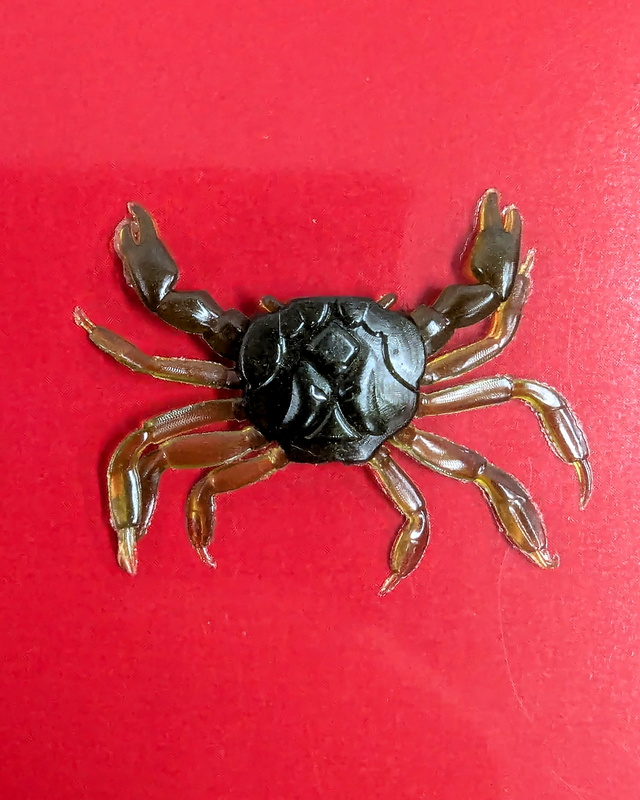crab2: (72, 185, 596, 595)
